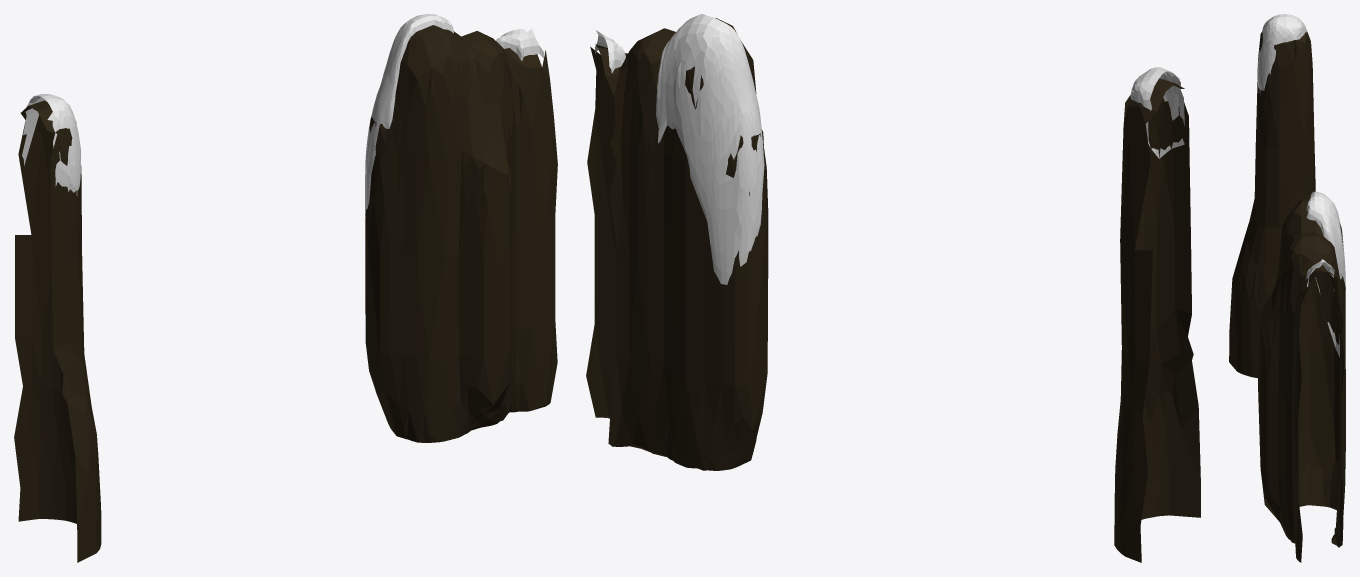
The model's file is Mtn_Wall_S3.fbx.
3 views of the same model, side by side, from view 1: azimuth 30°, elevation 25°; view 2: azimuth 150°, elevation 25°; view 3: azimuth 270°, elevation 25° (orthographic). The views are drawn at different scales.
Visible parts, largest first — view 1: Mtn_Wall_S3; view 2: Mtn_Wall_S3; view 3: Mtn_Wall_S3.
Boxes of the visible parts, left/top/right/bottom form: Mtn_Wall_S3: left=14, top=14, right=557, bottom=562; Mtn_Wall_S3: left=586, top=14, right=1200, bottom=562; Mtn_Wall_S3: left=1229, top=14, right=1345, bottom=562.
Size of the model in its own units: 18467 by 14485 by 4397.
